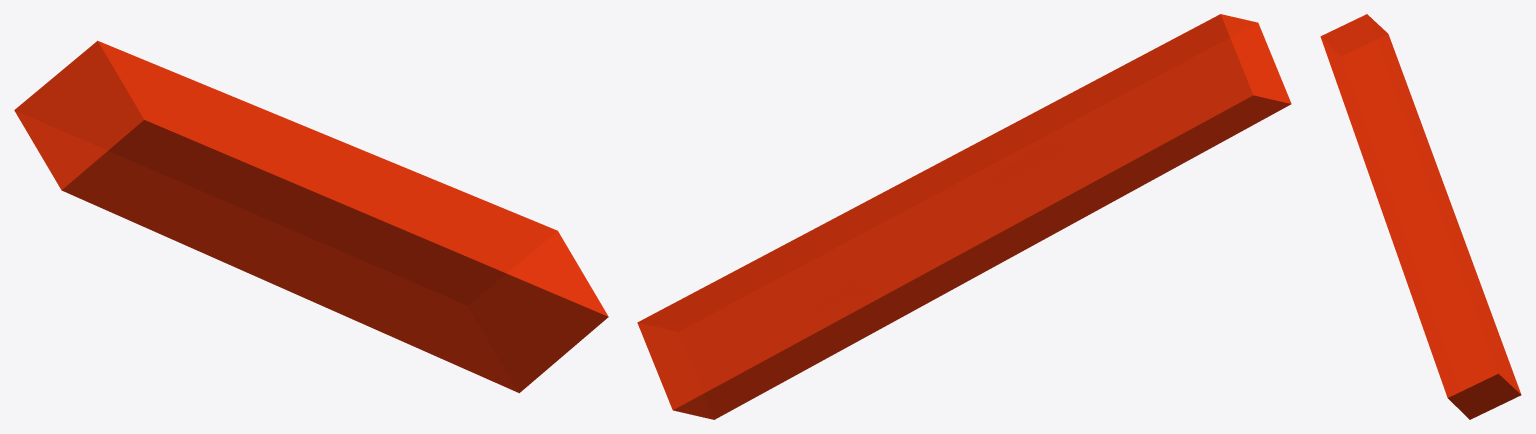
File: Event_421115418_EBrechit_27.fbx
The picture shows the model from 3 angles, left to right: view 1: azimuth 30°, elevation 25°; view 2: azimuth 150°, elevation 25°; view 3: azimuth 270°, elevation 25°; orthographic projection. The views are drawn at different scales.
Visible parts, largest first — view 1: Model; view 2: Model; view 3: Model.
Boxes of the visible parts, x1,y1,x2,y2 form: Model: (14, 40, 608, 393); Model: (637, 14, 1291, 419); Model: (1320, 14, 1521, 419).
Size of the model in its own units: 0.395 by 0.321 by 0.2105.
